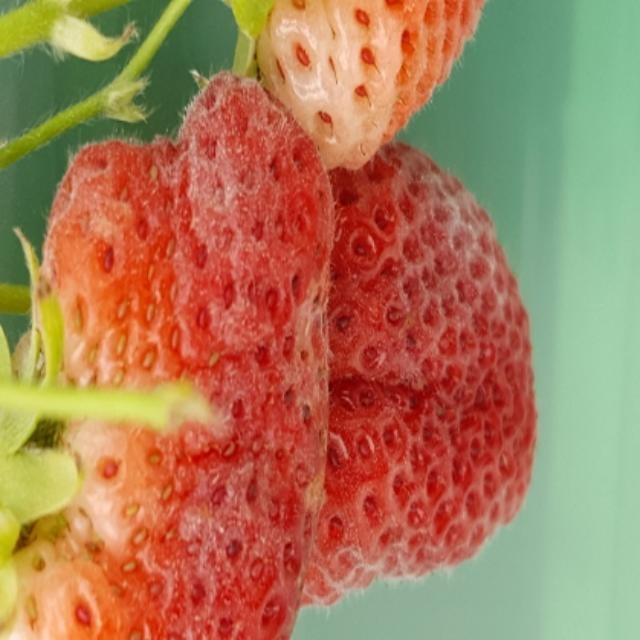Powdery Mildew Fruit: (0, 72, 338, 640), (304, 139, 540, 610)
